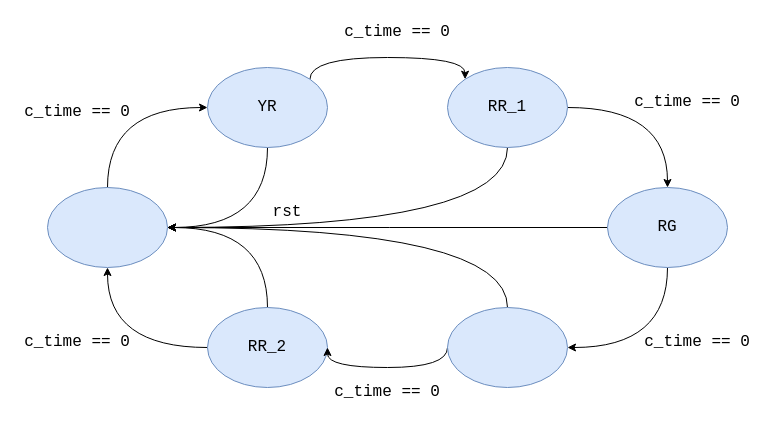
Some shapes in this 774 by 424 pixel diagram are drawn without their labels. Each missing label, with the centre of its shape:
GR: point 107,227
RY: point 507,347
